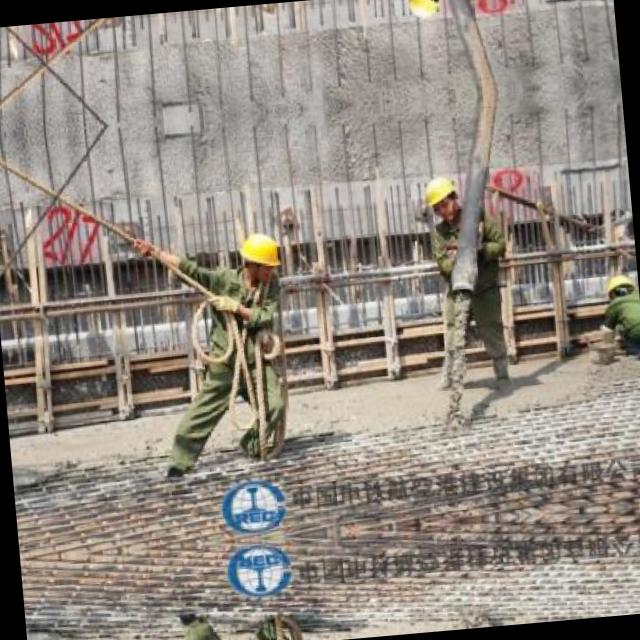helmet: (234, 227, 283, 286), (419, 168, 462, 224), (602, 266, 637, 300), (402, 0, 445, 23)
